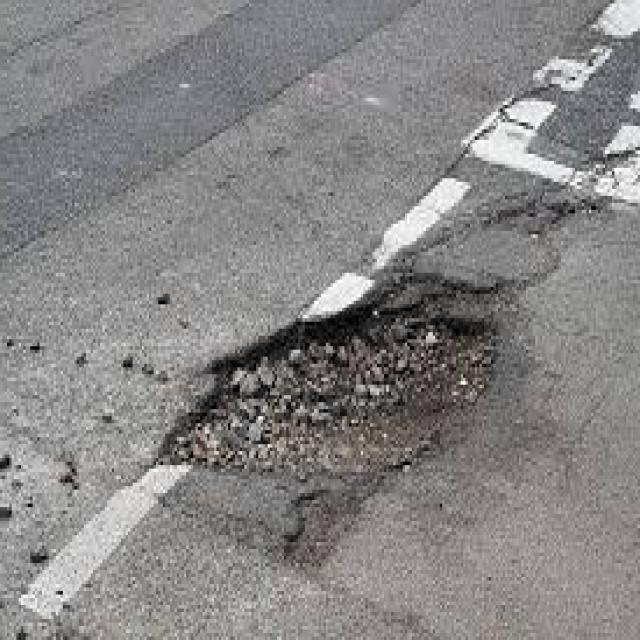Pothole: (164, 258, 504, 477)
